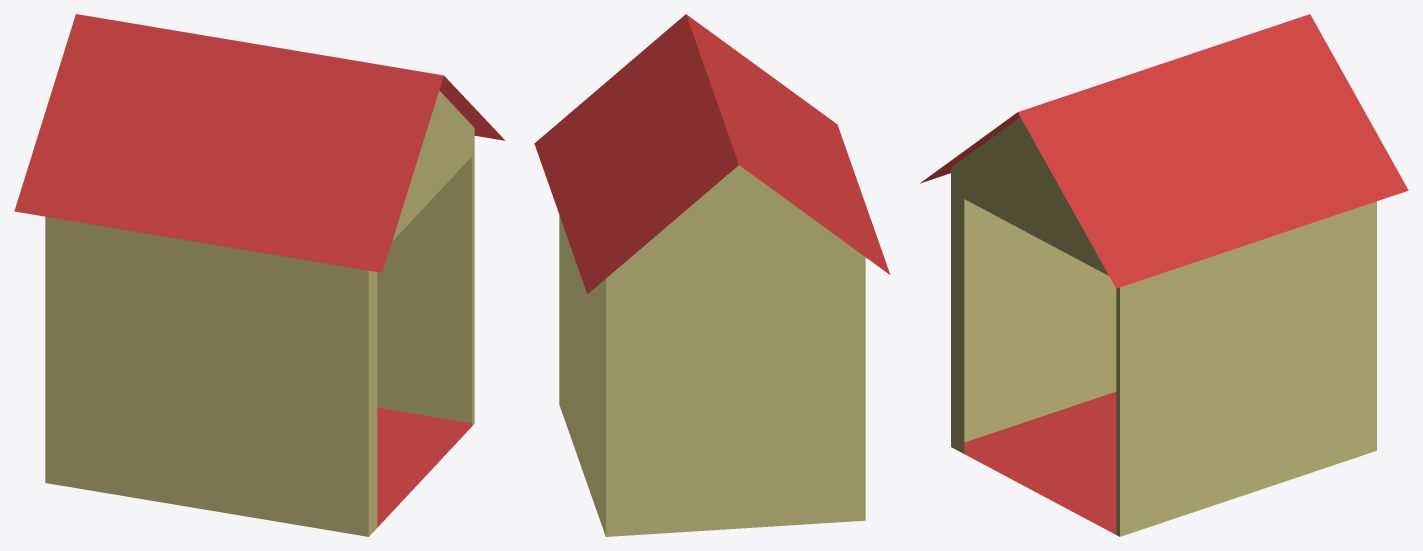
3 renders of one model, left to right at view 1: azimuth 30°, elevation 25°; view 2: azimuth 150°, elevation 25°; view 3: azimuth 270°, elevation 25°, orthographic. The views are drawn at different scales.
Size of the model in its own units: 15.91 by 16.21 by 14.09.
